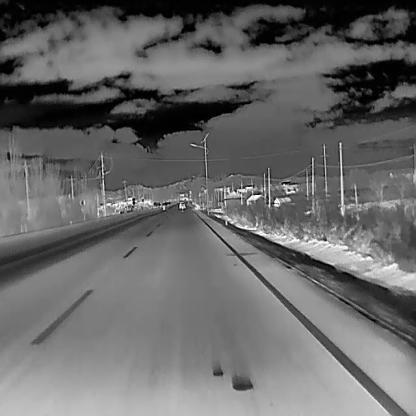car: (179, 201, 185, 209), (155, 201, 160, 207), (152, 202, 157, 208)
